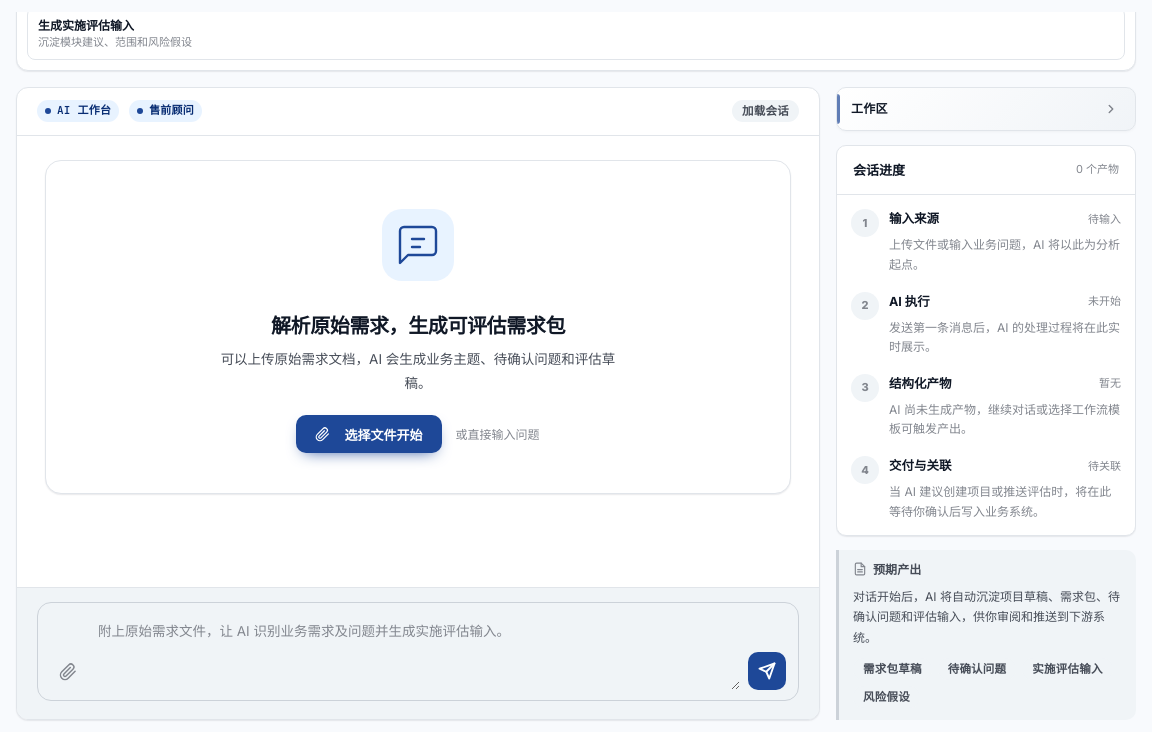
Test: AiHomeWorkbench › sends AI home message to backend and renders model answer
(page scrolled)
Type "请分析这份需求材料" into the text box at (417, 652), box [94,614,740,690]
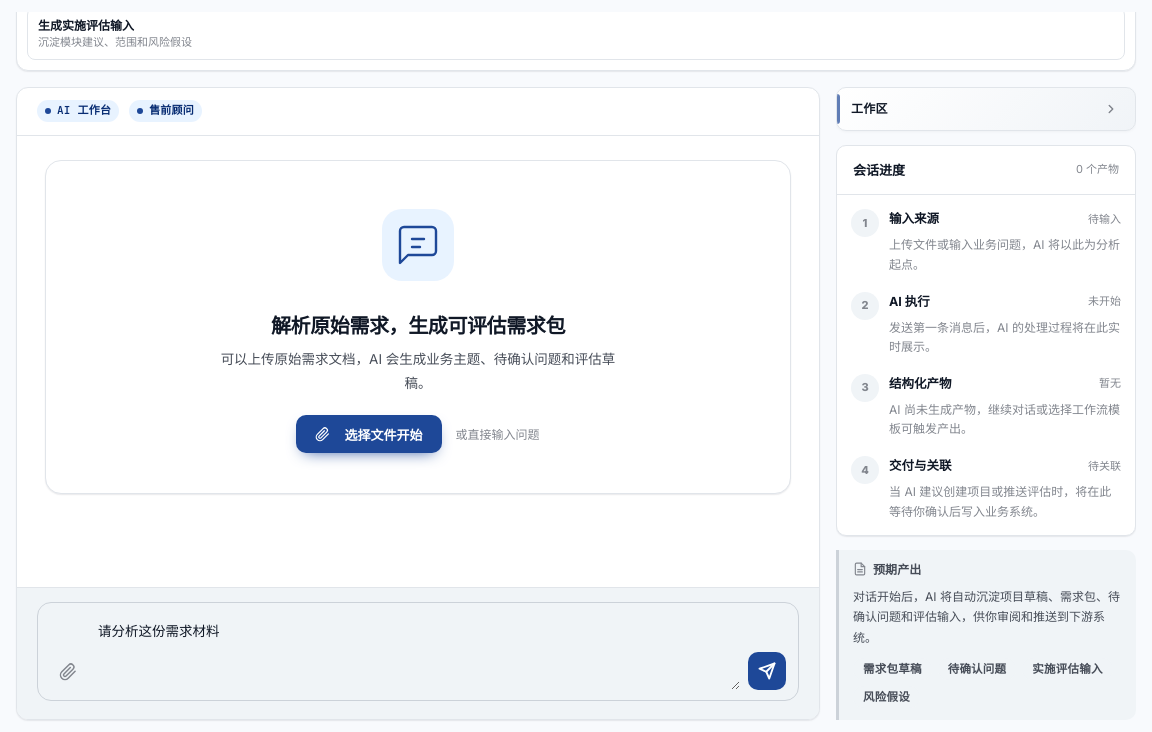
Click the button named "发送消息" at (767, 671), box [748,652,786,690]
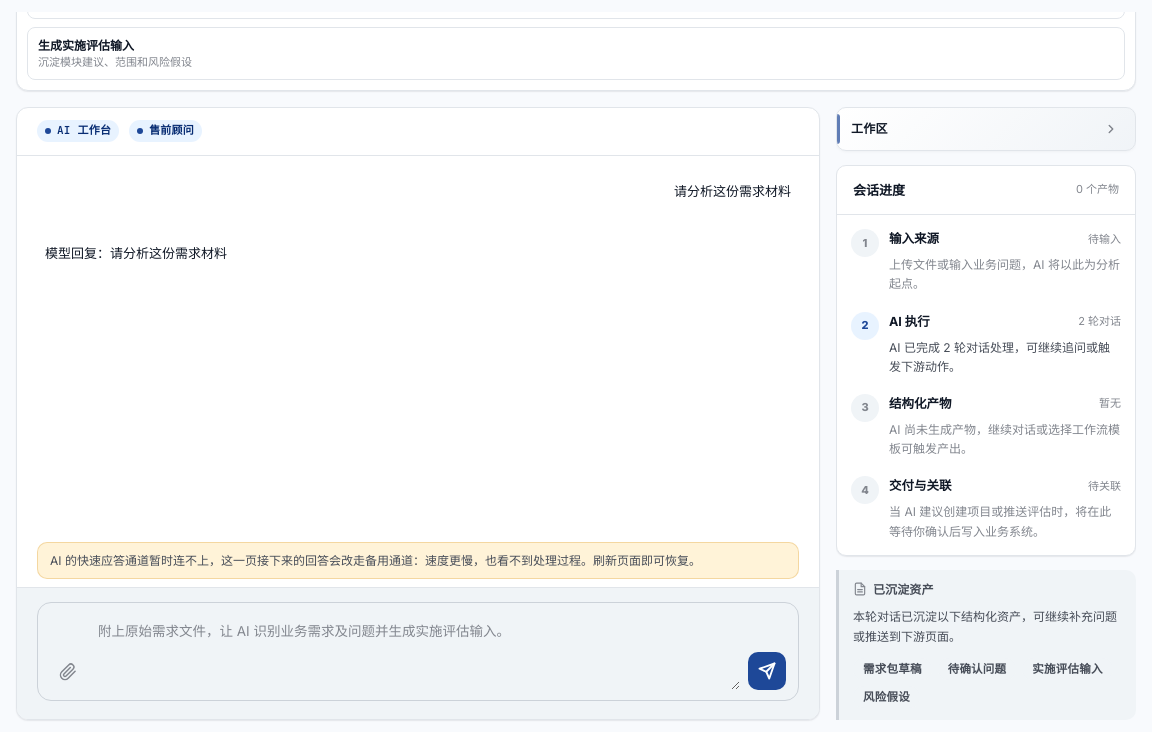
Now the text "模型回复：请分析这份需求材料" is shown, box [45,242,227,264]
